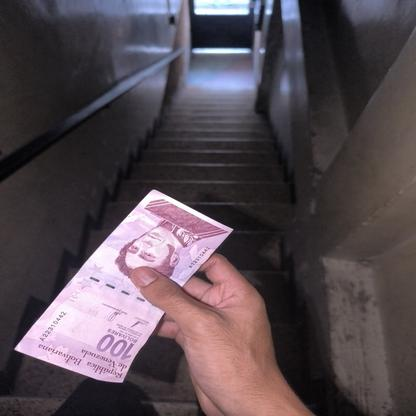one_hundred-front-vef: (13, 188, 235, 383)
